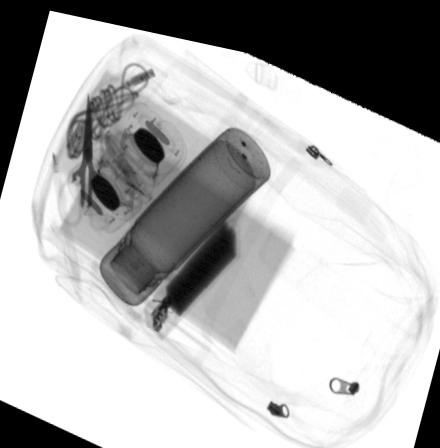Powerbank: (141, 206, 241, 335)
Scissors: (55, 85, 115, 227)
